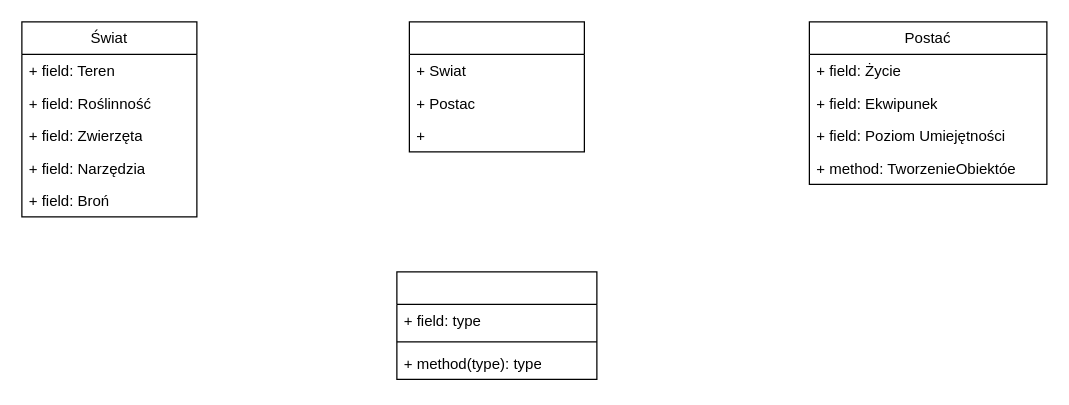
Some shapes in this 1069 by 405 pixel diagram are drawn without their labels. The shapes that lost their labels are listed below. From the top down, each one's box as (x1, y1, x2, y2) in pixels, then its label:
(408, 21, 584, 152): Game
(396, 271, 597, 379): Classname
